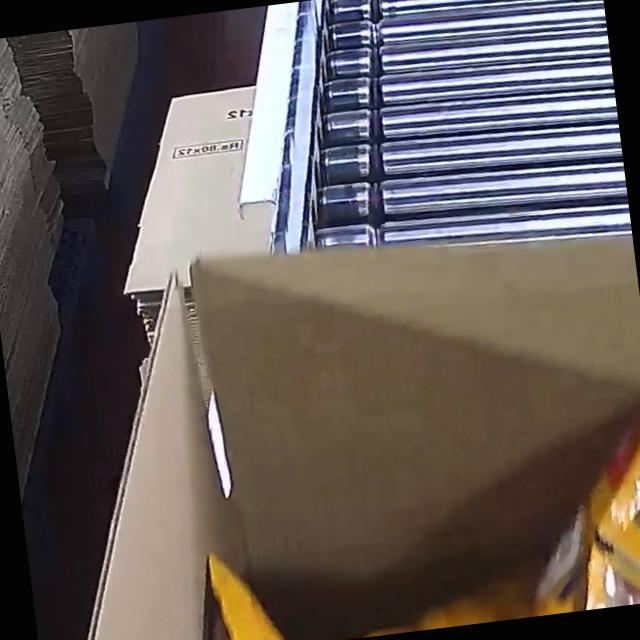cheese: (175, 347, 640, 640)
